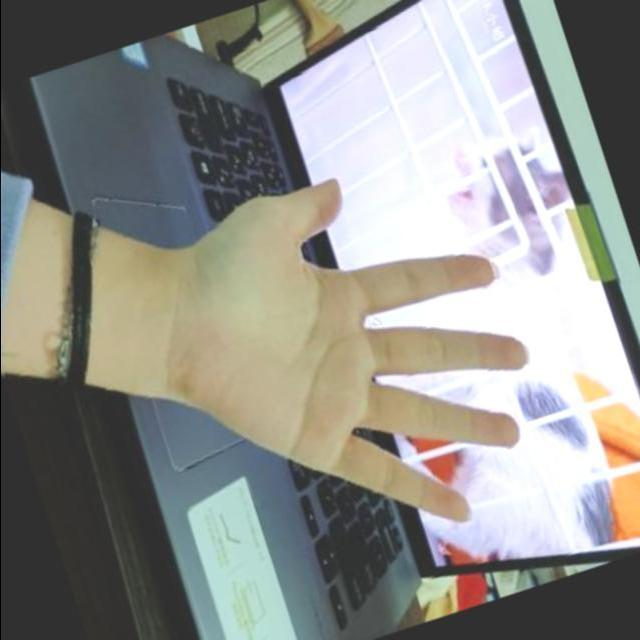hand: (116, 117, 587, 613)
